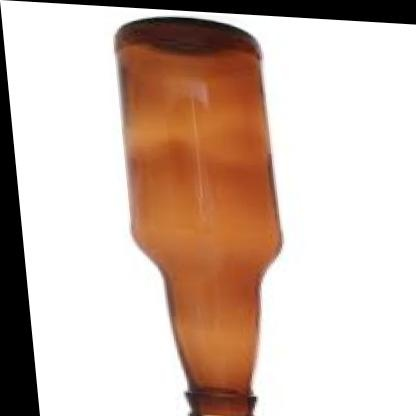trash: (116, 18, 281, 415)
